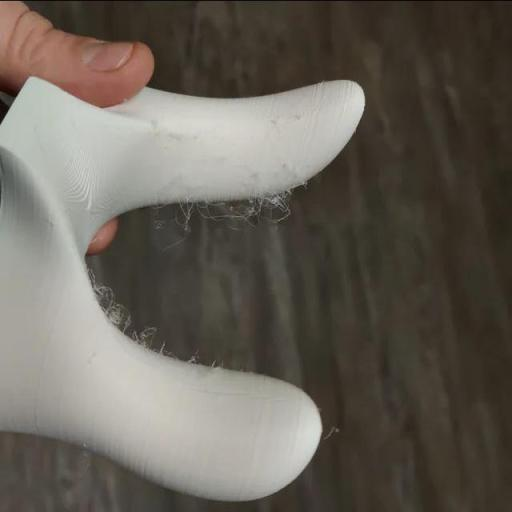stringing: (263, 189, 291, 214), (237, 196, 263, 222), (177, 199, 196, 231), (106, 300, 126, 326), (94, 281, 112, 305), (137, 328, 161, 345)
